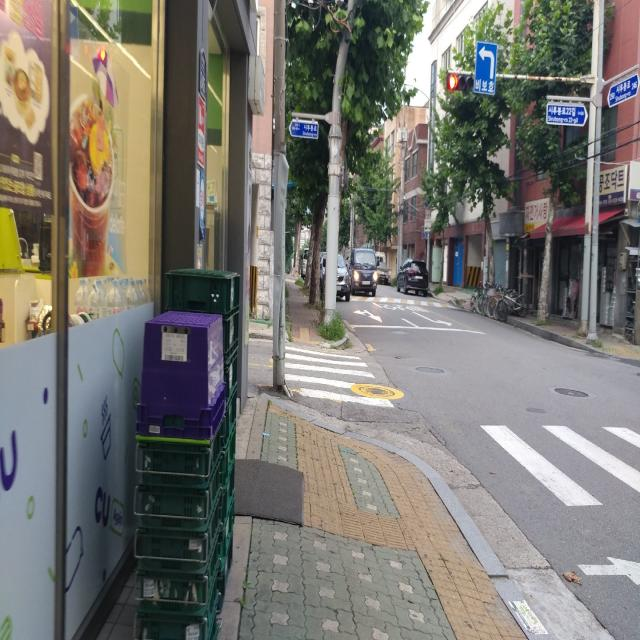횡단보도: (476, 420, 640, 590), (284, 345, 395, 409)
